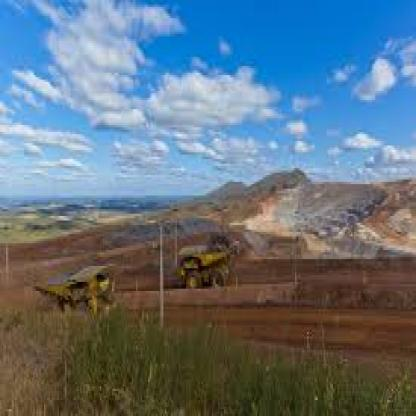dump_truck: (168, 230, 243, 312)
